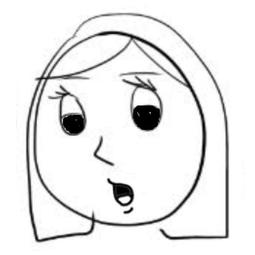eye: (122, 77, 169, 135), (46, 84, 90, 137)
eyebrow: (115, 67, 162, 77), (62, 73, 92, 81)
open_mouth: (101, 181, 143, 206)
pointy_nose: (81, 135, 124, 169)
